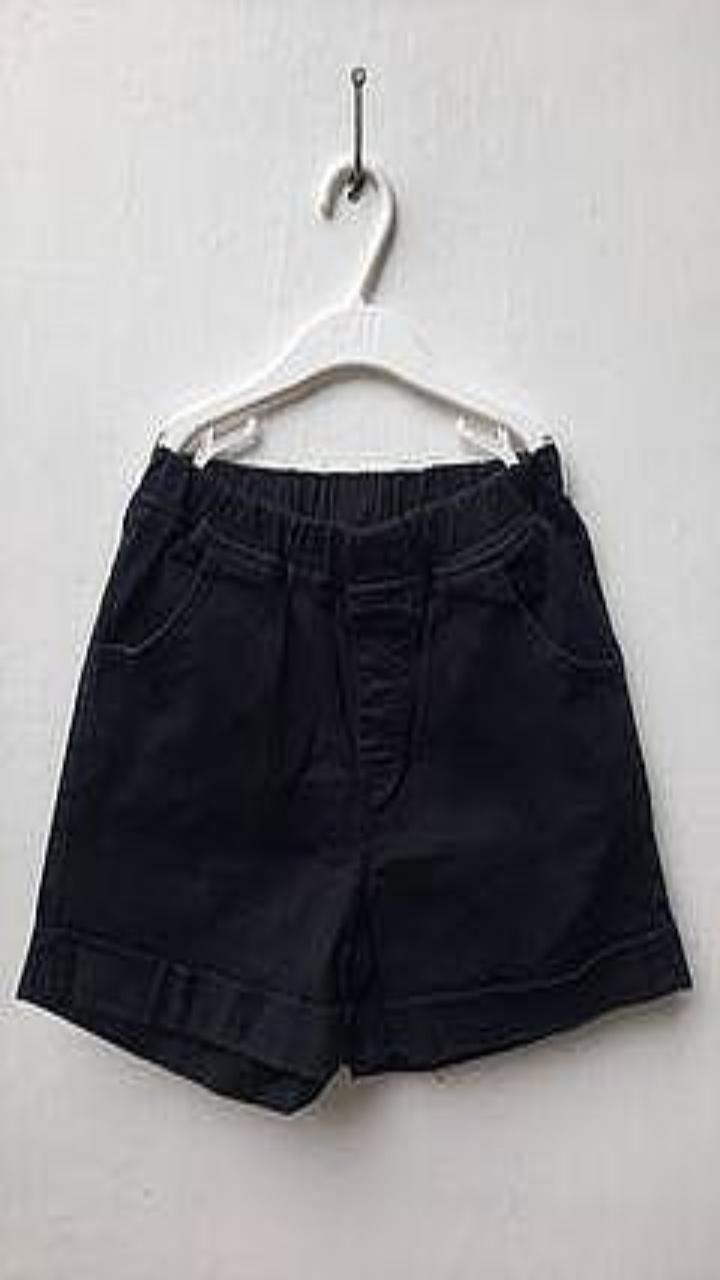Shorts: (17, 439, 691, 1112)
